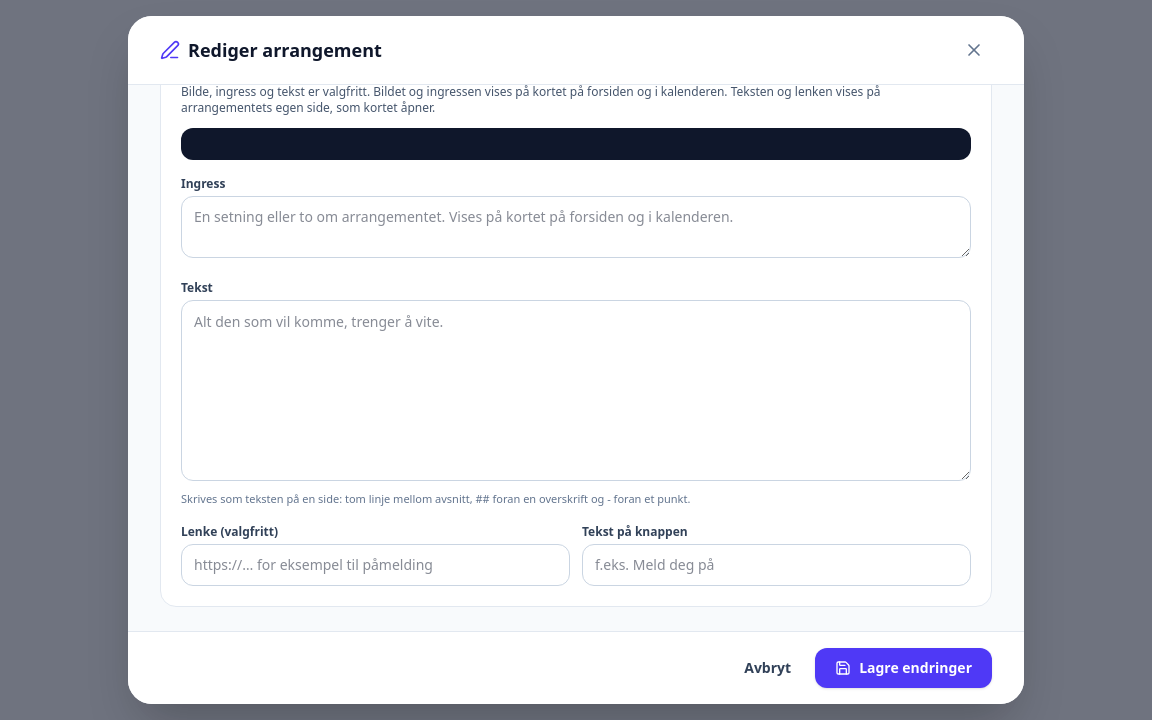
it: Delen «På nettsiden» i skjemaet › en lenke som ikke er en adresse, lagres ikke
(page scrolled)
Type "pamelding" into the field labelled "Lenke (valgfritt)".
click(376, 565); type("pamelding")  # box [181,544,570,586]
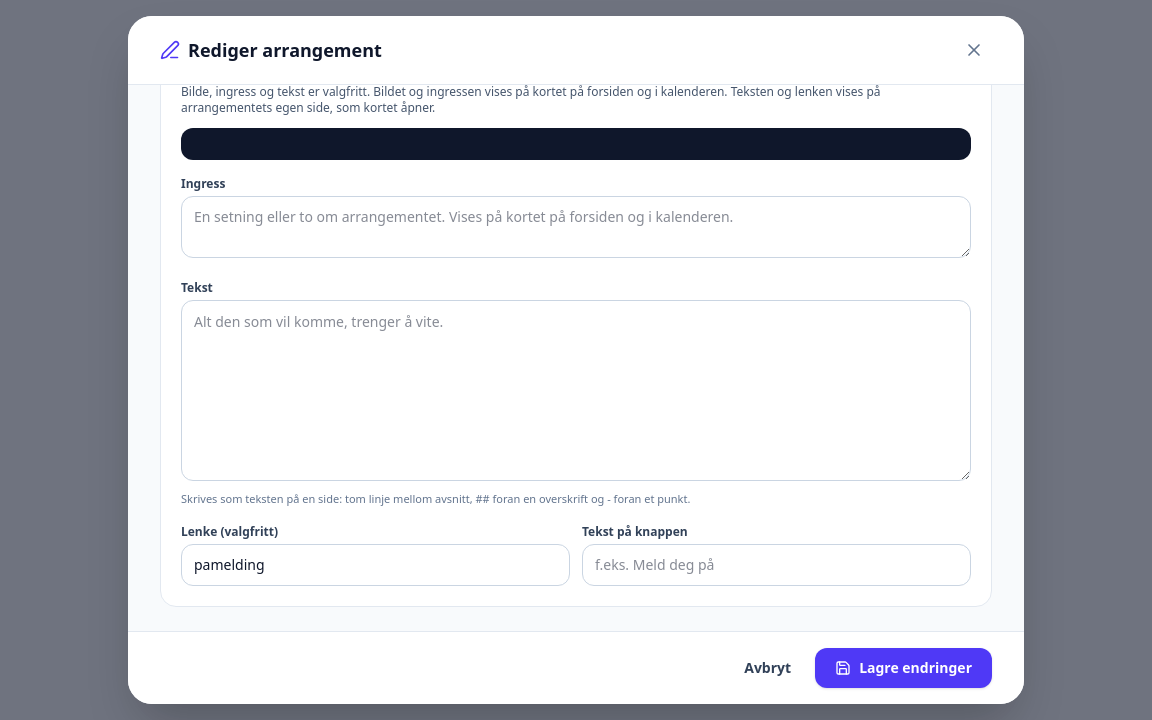
Click the button "Lagre endringer".
click(904, 668)  # box [815,648,992,688]
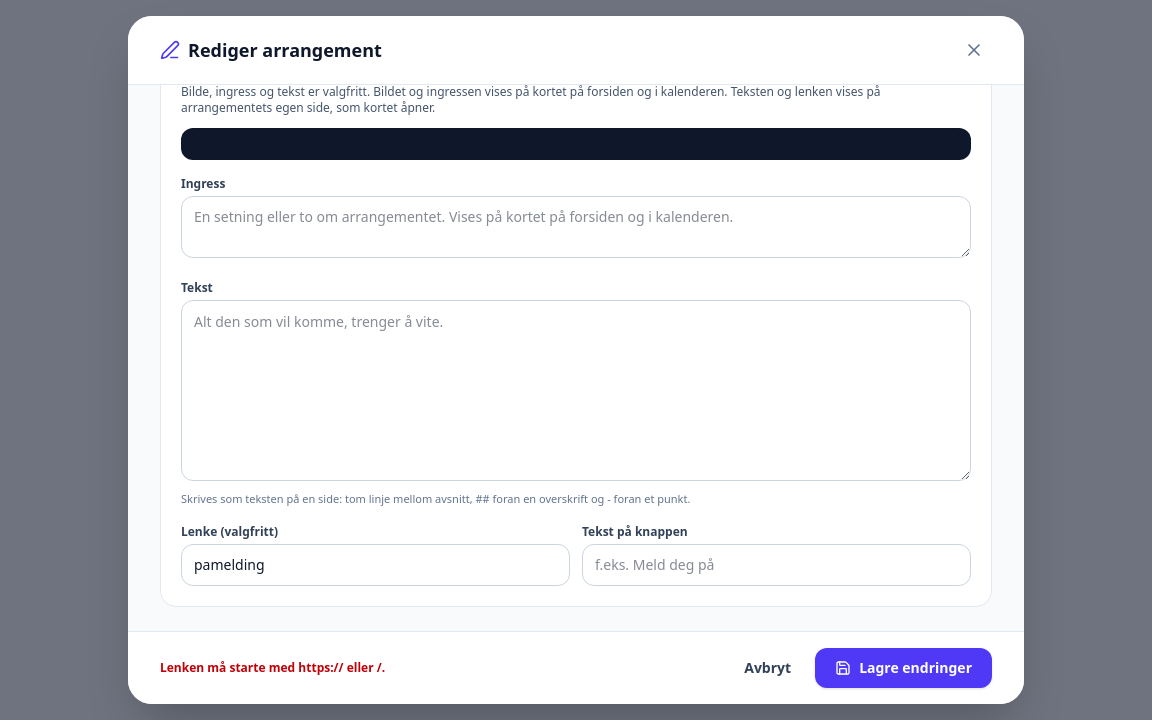
Now the message reads "Lenken må starte med https:// eller /.", box [160,659,385,676]
